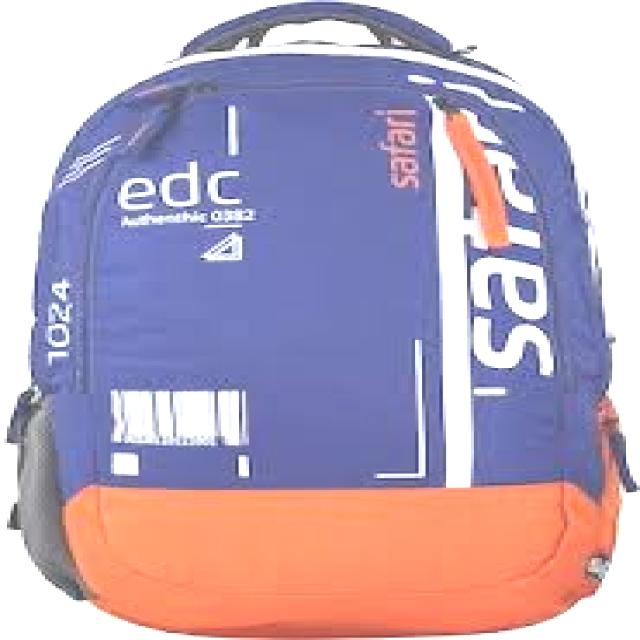backpack: (5, 1, 638, 639)
